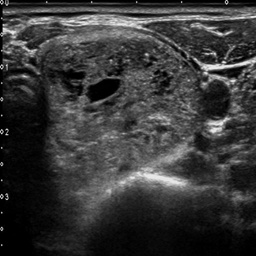mass: (42, 34, 201, 144)
